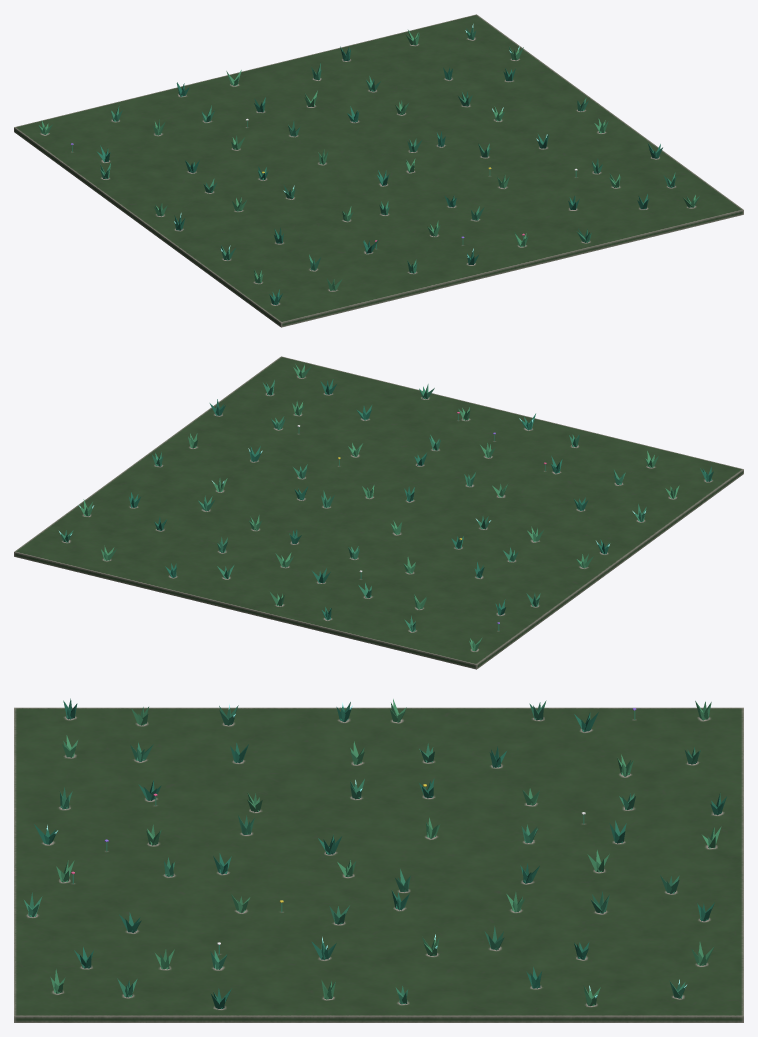
Rendered from cesped_alien.fbx.
3 views of the same model, one above another, from view 1: azimuth 30°, elevation 25°; view 2: azimuth 150°, elevation 25°; view 3: azimuth 270°, elevation 25° (orthographic). The views are drawn at different scales.
Visible parts, largest first — view 1: cesped_alien; view 2: cesped_alien; view 3: cesped_alien.
Part boxes in pixels (x1,y1,x2,y2): cesped_alien: (14,14,743,327); cesped_alien: (14,356,743,669); cesped_alien: (14,698,743,1022).
Size of the model in its own units: 8 by 0.3091 by 8.
Materials: 2 (1 with a texture image).
